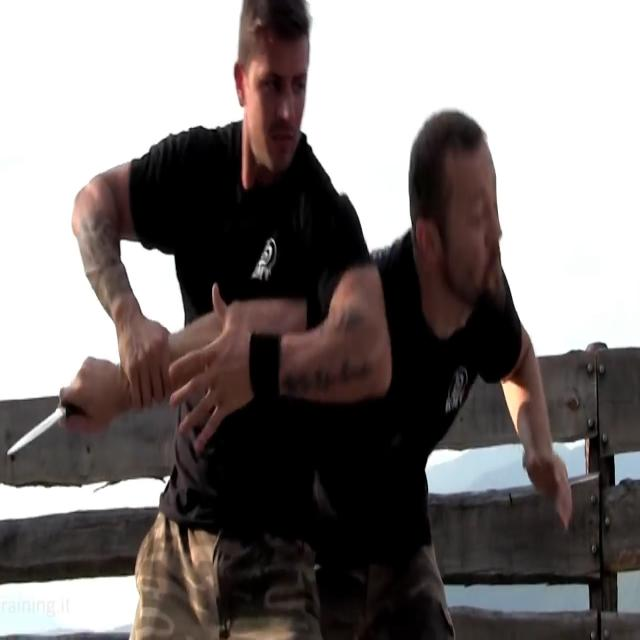knife: (4, 400, 68, 460)
